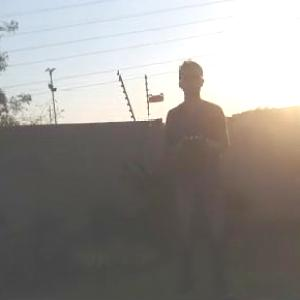follow: (161, 50, 234, 299)
